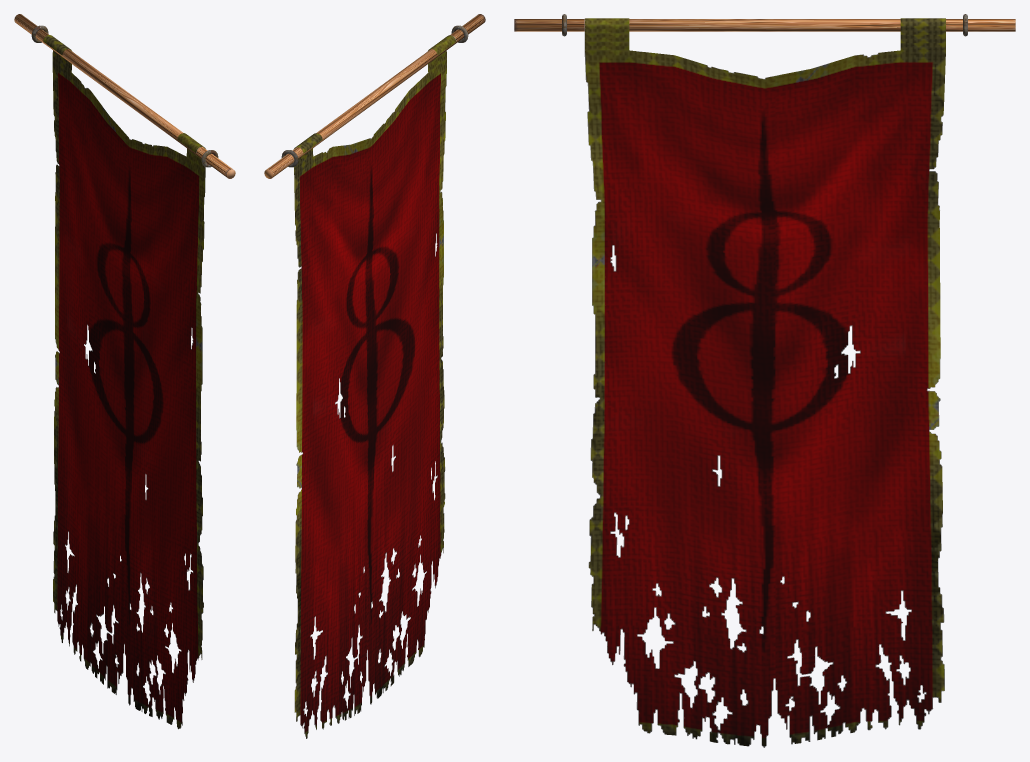
The model's file is banner.dae.
The picture shows the model from 3 angles, left to right: view 1: azimuth 30°, elevation 25°; view 2: azimuth 150°, elevation 25°; view 3: azimuth 270°, elevation 25°; orthographic projection. The views are drawn at different scales.
Parts seen in each view (by area): view 1: Dn_Rag_1, Dn_Rag_1_Bar; view 2: Dn_Rag_1, Dn_Rag_1_Bar; view 3: Dn_Rag_1, Dn_Rag_1_Bar.
Boxes of the visible parts, x1,y1,x2,y2 form: Dn_Rag_1: (43, 35, 205, 729); Dn_Rag_1_Bar: (14, 14, 235, 178); Dn_Rag_1: (293, 35, 456, 738); Dn_Rag_1_Bar: (264, 14, 485, 178); Dn_Rag_1: (584, 18, 945, 747); Dn_Rag_1_Bar: (514, 14, 1015, 36).
Size of the model in its own units: 0.09 by 2 by 3.22.
2 materials, 2 textured.
